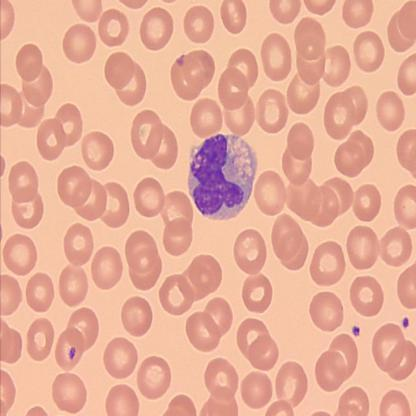Monocyte: (186, 130, 258, 222)
